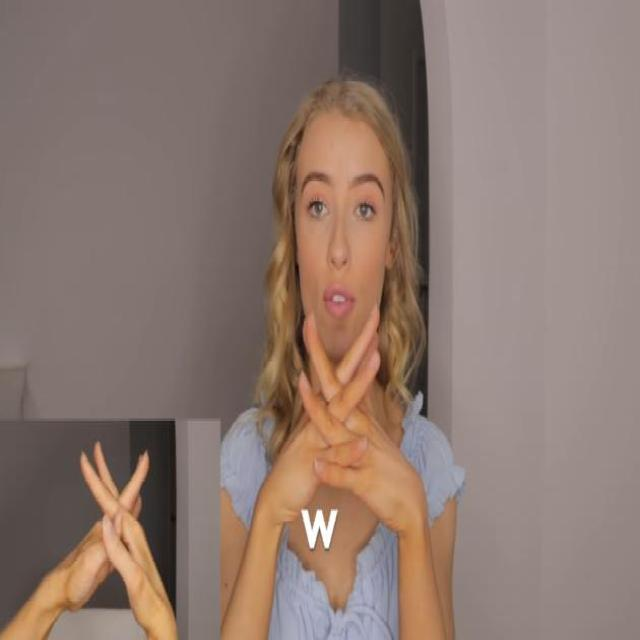W: (261, 294, 436, 561), (29, 409, 202, 639)
